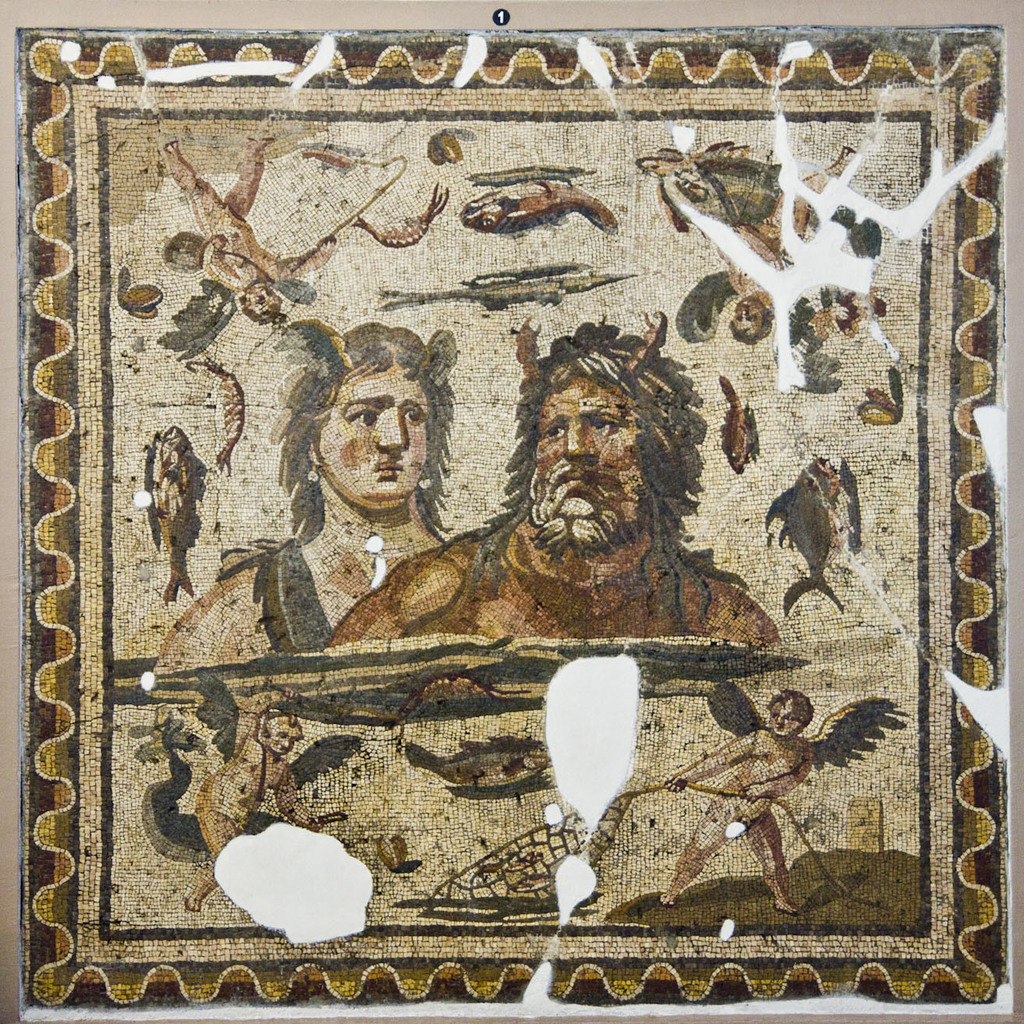Person: (323, 312, 772, 654), (152, 317, 457, 672), (667, 685, 813, 911), (176, 693, 323, 911)
